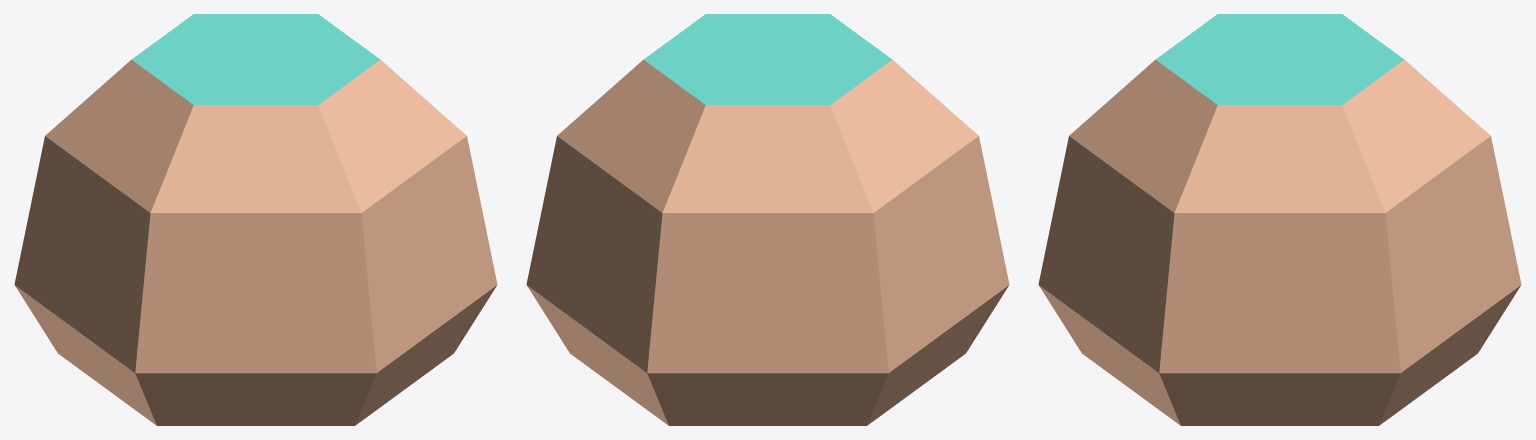
File: rock_smallI.glb
3 renders of one model, left to right at view 1: azimuth 30°, elevation 25°; view 2: azimuth 150°, elevation 25°; view 3: azimuth 270°, elevation 25°, orthographic.
Visible parts, largest first — view 1: rock_smallI; view 2: rock_smallI; view 3: rock_smallI.
Boxes of the visible parts, <box> form: rock_smallI: <box>14,14,497,425</box>; rock_smallI: <box>526,14,1009,425</box>; rock_smallI: <box>1038,14,1521,425</box>.
Bounding box in the file's own units: 0.3583 × 0.2778 × 0.4138.
1 material, 1 textured.
